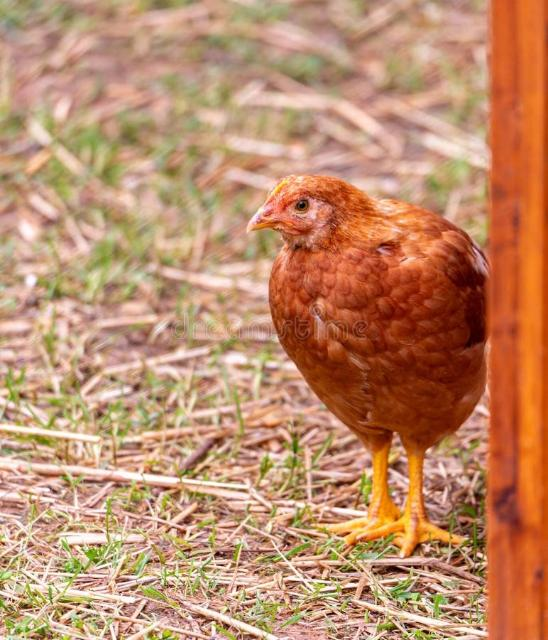Chicken: (250, 174, 491, 556)
